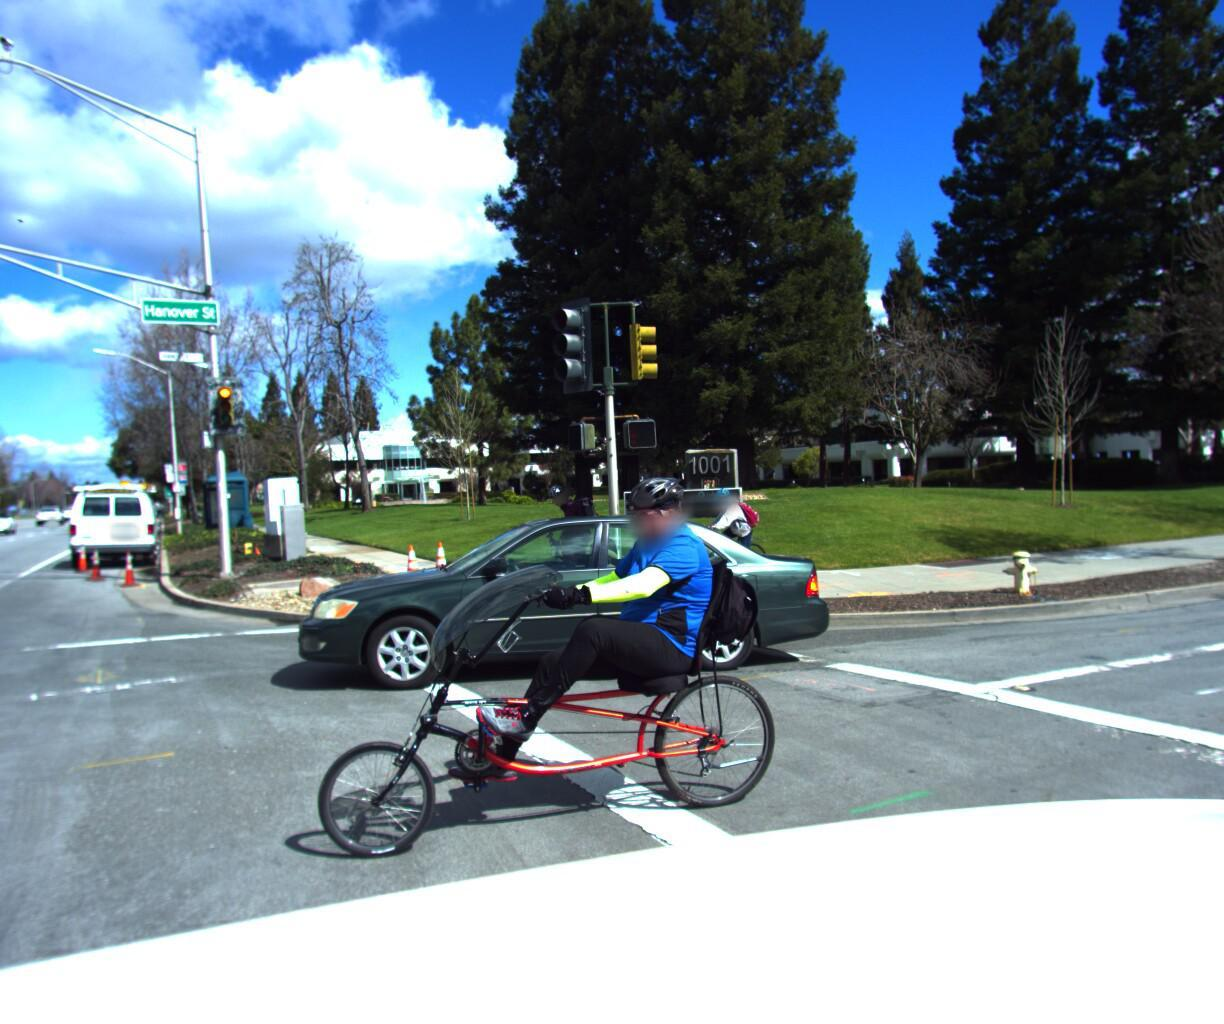bicycle: (307, 428, 868, 921), (507, 477, 635, 610), (652, 471, 784, 598)
car: (252, 506, 839, 723), (56, 477, 169, 577), (0, 514, 25, 542), (37, 509, 73, 529)
